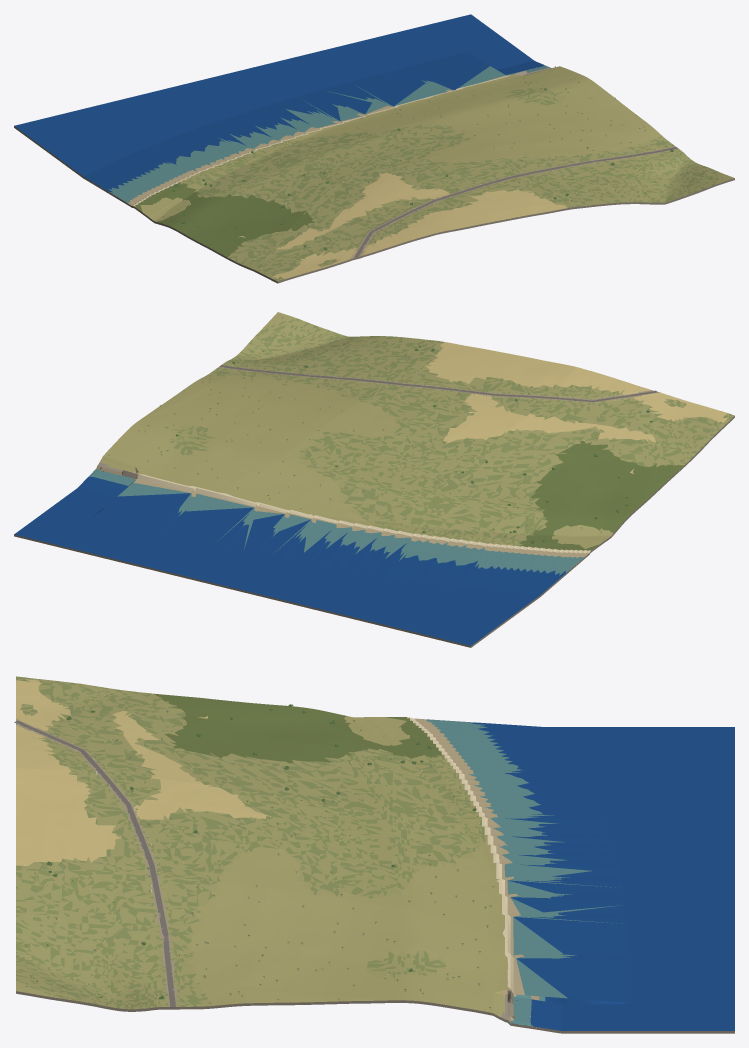
The model's file is parca_+0_+2-yakin.glb.
3 renders of one model, top to bottom at view 1: azimuth 30°, elevation 25°; view 2: azimuth 150°, elevation 25°; view 3: azimuth 270°, elevation 25°, orthographic. The views are drawn at different scales.
Visible parts, largest first — view 1: parca_+0_+2_arazi, parca_+0_+2_yollar, parca_+0_+2_bitkiler; view 2: parca_+0_+2_arazi, parca_+0_+2_yollar, parca_+0_+2_bitkiler; view 3: parca_+0_+2_arazi, parca_+0_+2_yollar, parca_+0_+2_bitkiler.
Boxes of the visible parts, <box> form: parca_+0_+2_arazi: <box>14,14,734,283</box>; parca_+0_+2_yollar: <box>354,147,677,257</box>; parca_+0_+2_bitkiler: <box>162,66,722,250</box>; parca_+0_+2_arazi: <box>14,312,734,647</box>; parca_+0_+2_yollar: <box>219,365,656,401</box>; parca_+0_+2_bitkiler: <box>108,317,684,543</box>; parca_+0_+2_arazi: <box>16,676,734,1033</box>; parca_+0_+2_yollar: <box>14,720,175,1006</box>; parca_+0_+2_bitkiler: <box>25,682,494,1007</box>.
Bounding box in the file's own units: 1000 × 103 × 1003.
